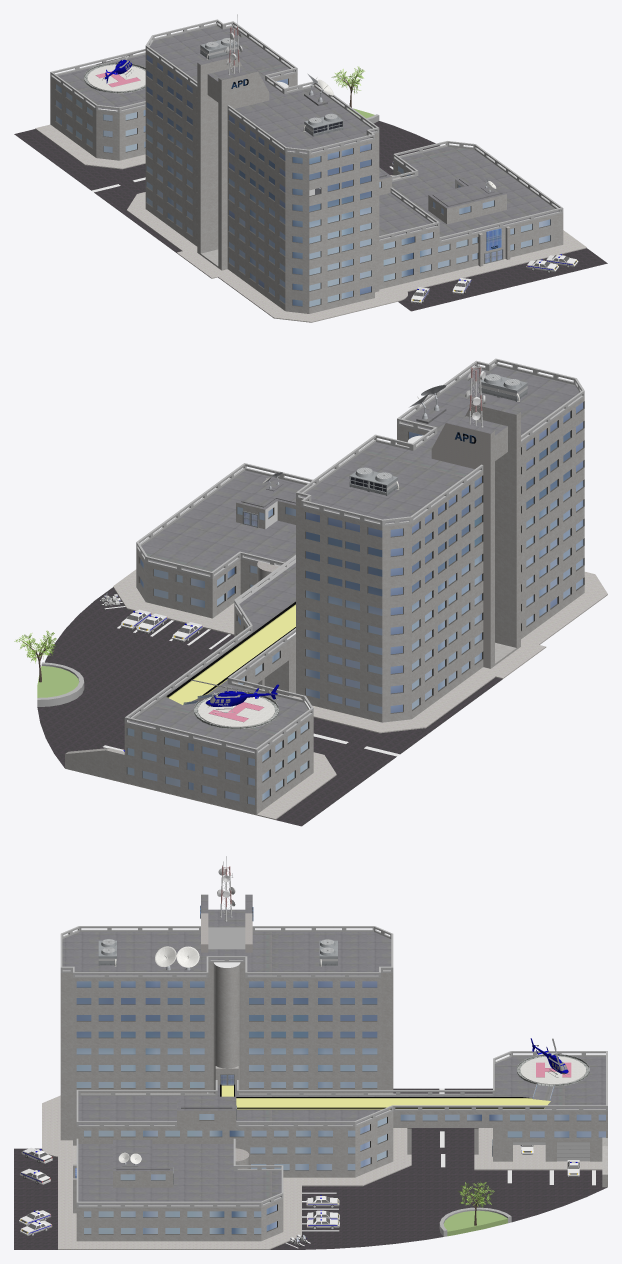
The model's file is police_station.glb.
3 renders of one model, top to bottom at view 1: azimuth 30°, elevation 25°; view 2: azimuth 150°, elevation 25°; view 3: azimuth 270°, elevation 25°, orthographic. The views are drawn at different scales.
Parts seen in each view (by area): view 1: Material3 (×9), Material2; view 2: Material3 (×14), Material2; view 3: Material3 (×16), Material2 (×2).
Boxes of the visible parts, bbox=[...] form: Material3 (×9): bbox=[14, 19, 607, 322]; Material2: bbox=[392, 162, 578, 303]; Material3 (×14): bbox=[37, 358, 607, 826]; Material2: bbox=[101, 594, 202, 751]; Material3 (×16): bbox=[14, 856, 607, 1249]; Material2 (×2): bbox=[19, 1145, 579, 1244].
Bounding box in the file's own units: 2480 × 1831 × 3857.
Materials: 64 (30 with a texture image).
